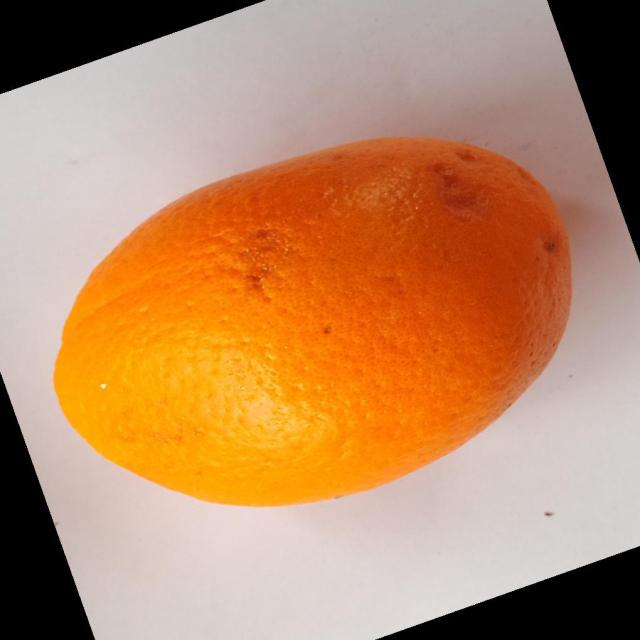fresh orange: (52, 134, 573, 508)
